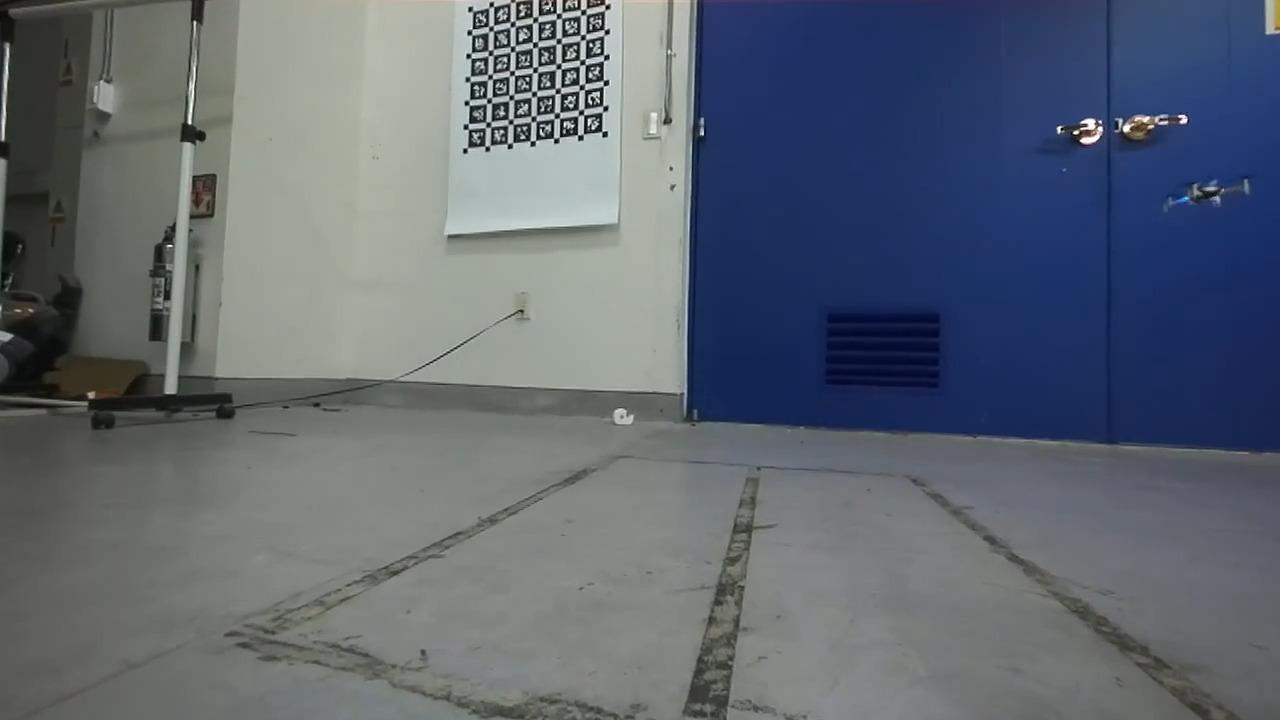crazyflie: (1157, 174, 1253, 214)
